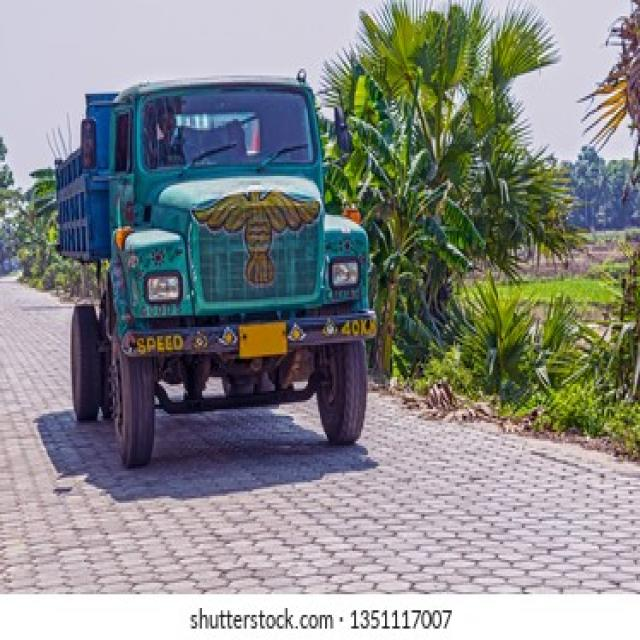truck: (56, 72, 376, 467)
